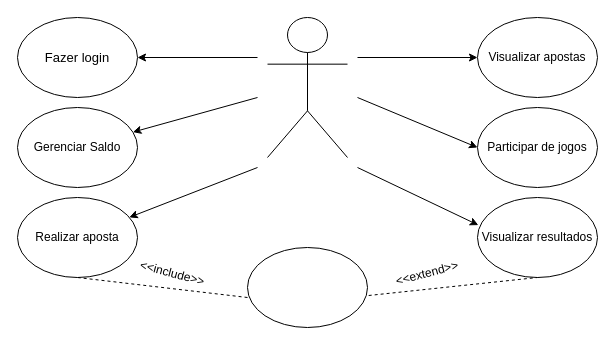
Some shapes in this 615 by 345 pixel diagram are drawn without their labels. The shapes that lost their labels are listed below. From the top down, each one's centre as x and y in pixels, then its label:
the point at 307,87: User
the point at 307,287: Selecionar jogo
